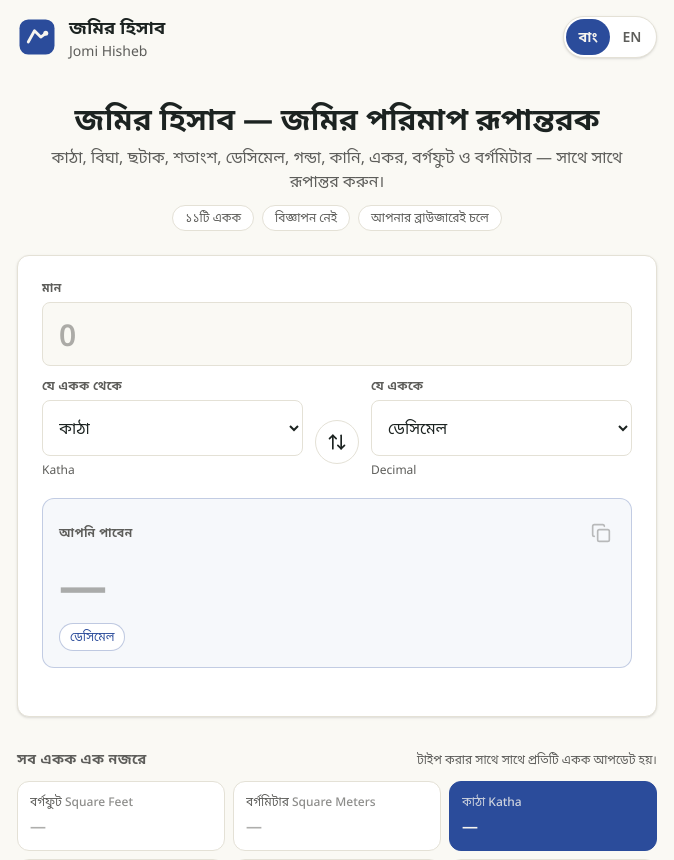
App integration › computes result live as the user types (5 katha → 8.2645 decimal)
Type "5" into the field labelled "মান".
click(337, 334); type("5")  # box [42,302,632,366]
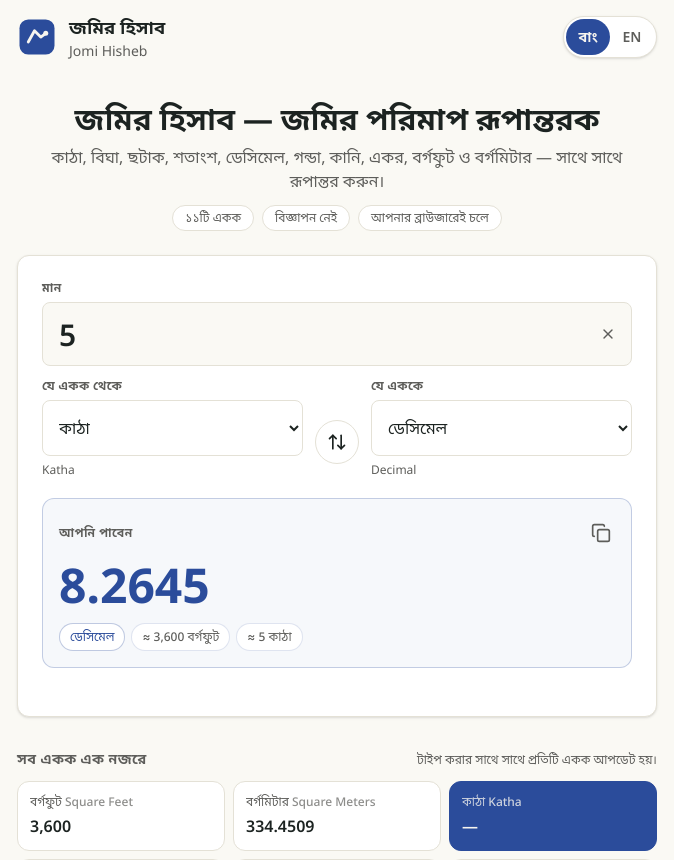
Result: the text "8.2645" below "আপনি পাবেন" is shown at [59,552,210,617]
